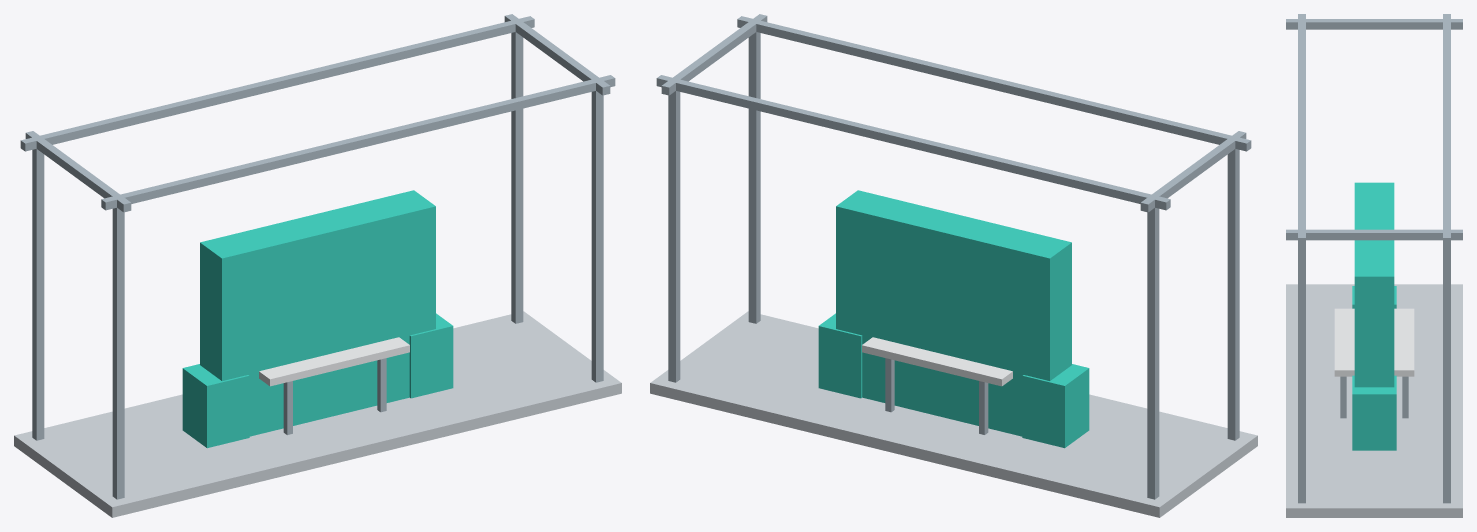
The picture shows the model from 3 angles, left to right: view 1: azimuth 30°, elevation 25°; view 2: azimuth 150°, elevation 25°; view 3: azimuth 270°, elevation 25°; orthographic projection. The views are drawn at different scales.
Visible parts, largest first — view 1: Exhibition Booth Concept; view 2: Exhibition Booth Concept; view 3: Exhibition Booth Concept.
Part boxes in pixels (x1=…): Exhibition Booth Concept: x1=14, y1=14, x2=621, y2=517; Exhibition Booth Concept: x1=650, y1=14, x2=1257, y2=517; Exhibition Booth Concept: x1=1286, y1=14, x2=1462, y2=517.
Bounding box in the file's own units: 6 × 3.49 × 2.
